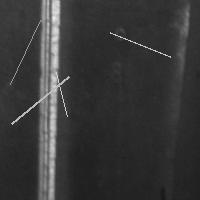scratches: (32, 1, 62, 200), (6, 72, 73, 129), (5, 15, 45, 89), (105, 28, 175, 62), (174, 3, 191, 92), (51, 67, 72, 121)
